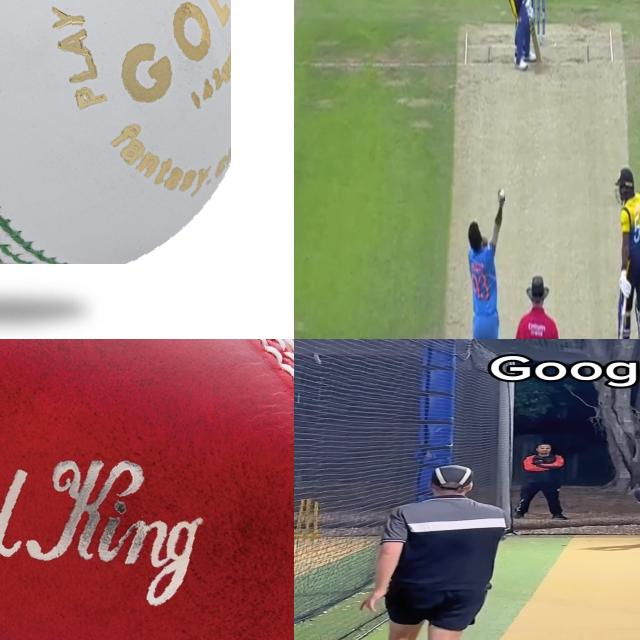Cricket ball: (0, 339, 294, 640), (0, 0, 231, 263), (498, 189, 505, 201)
